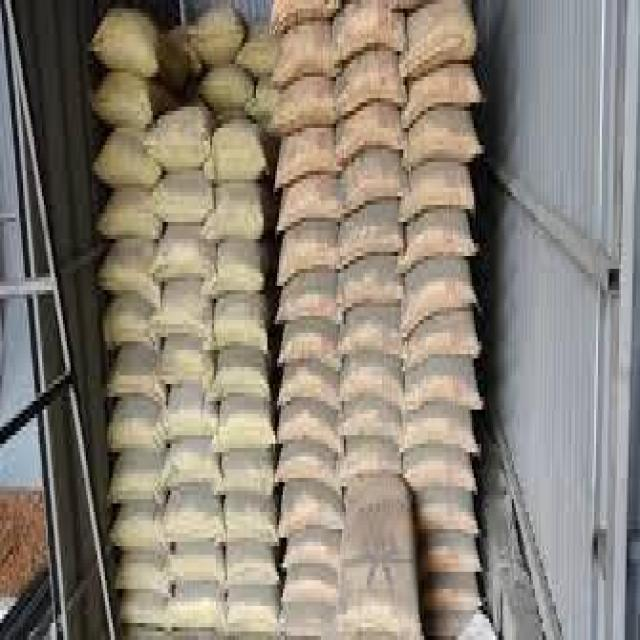gunny_bag: (343, 476, 413, 568), (409, 266, 475, 341), (404, 19, 470, 89), (343, 148, 408, 218), (401, 172, 471, 232), (336, 10, 405, 67), (342, 212, 405, 273), (344, 61, 402, 126), (271, 73, 335, 131), (409, 118, 473, 172), (98, 14, 156, 70), (280, 36, 335, 92), (411, 493, 475, 541), (105, 251, 157, 309), (284, 184, 340, 237), (280, 365, 338, 416), (284, 137, 338, 191), (281, 449, 341, 497), (347, 319, 403, 370), (341, 367, 403, 413), (408, 374, 475, 416), (92, 82, 148, 131), (285, 278, 339, 328), (213, 305, 264, 353), (406, 423, 474, 459), (424, 539, 480, 582), (225, 503, 275, 551), (163, 237, 212, 285), (160, 302, 209, 350), (171, 503, 221, 550), (167, 451, 221, 493), (113, 413, 160, 459), (212, 196, 259, 242), (114, 362, 163, 406), (107, 200, 159, 241), (287, 498, 339, 539), (160, 181, 209, 224), (102, 142, 156, 181), (221, 415, 271, 457), (212, 137, 260, 179), (157, 121, 206, 162), (287, 568, 339, 606), (194, 19, 241, 61), (226, 555, 277, 592), (218, 364, 266, 403), (112, 307, 154, 350), (113, 468, 157, 509), (214, 261, 263, 297), (173, 555, 220, 592), (118, 563, 169, 597), (203, 67, 253, 101), (118, 510, 159, 551), (225, 468, 270, 502), (171, 404, 213, 439)
